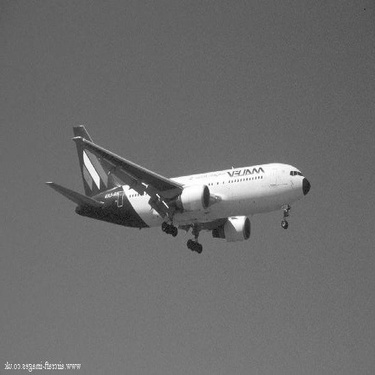airplane: (30, 111, 321, 249)
